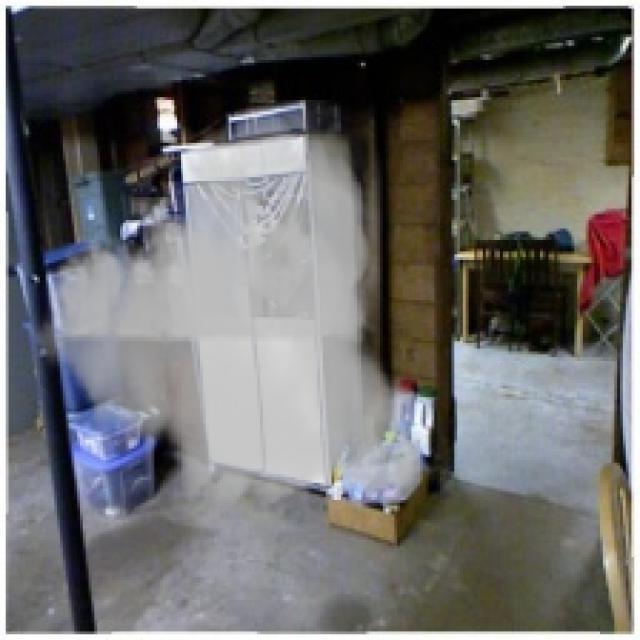smoke: (23, 100, 446, 523)
